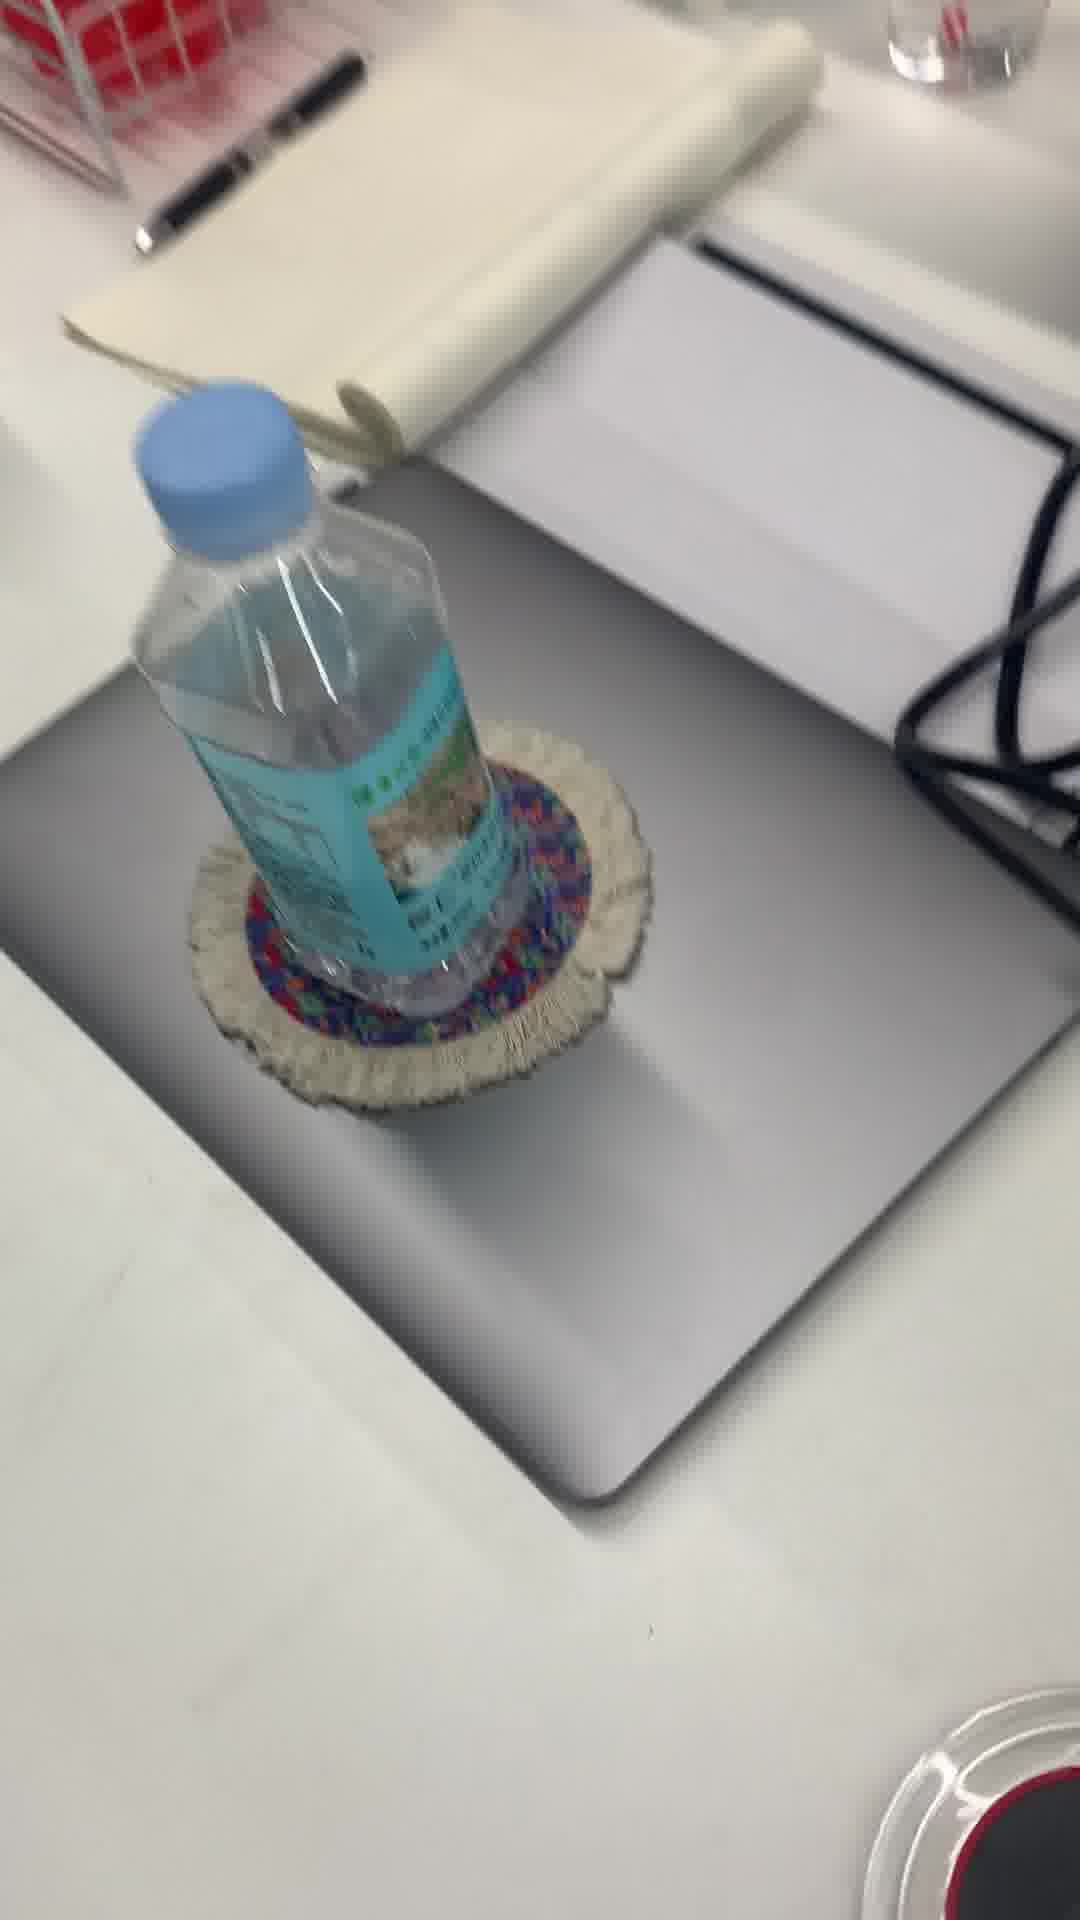水瓶: (124, 378, 533, 1021)
